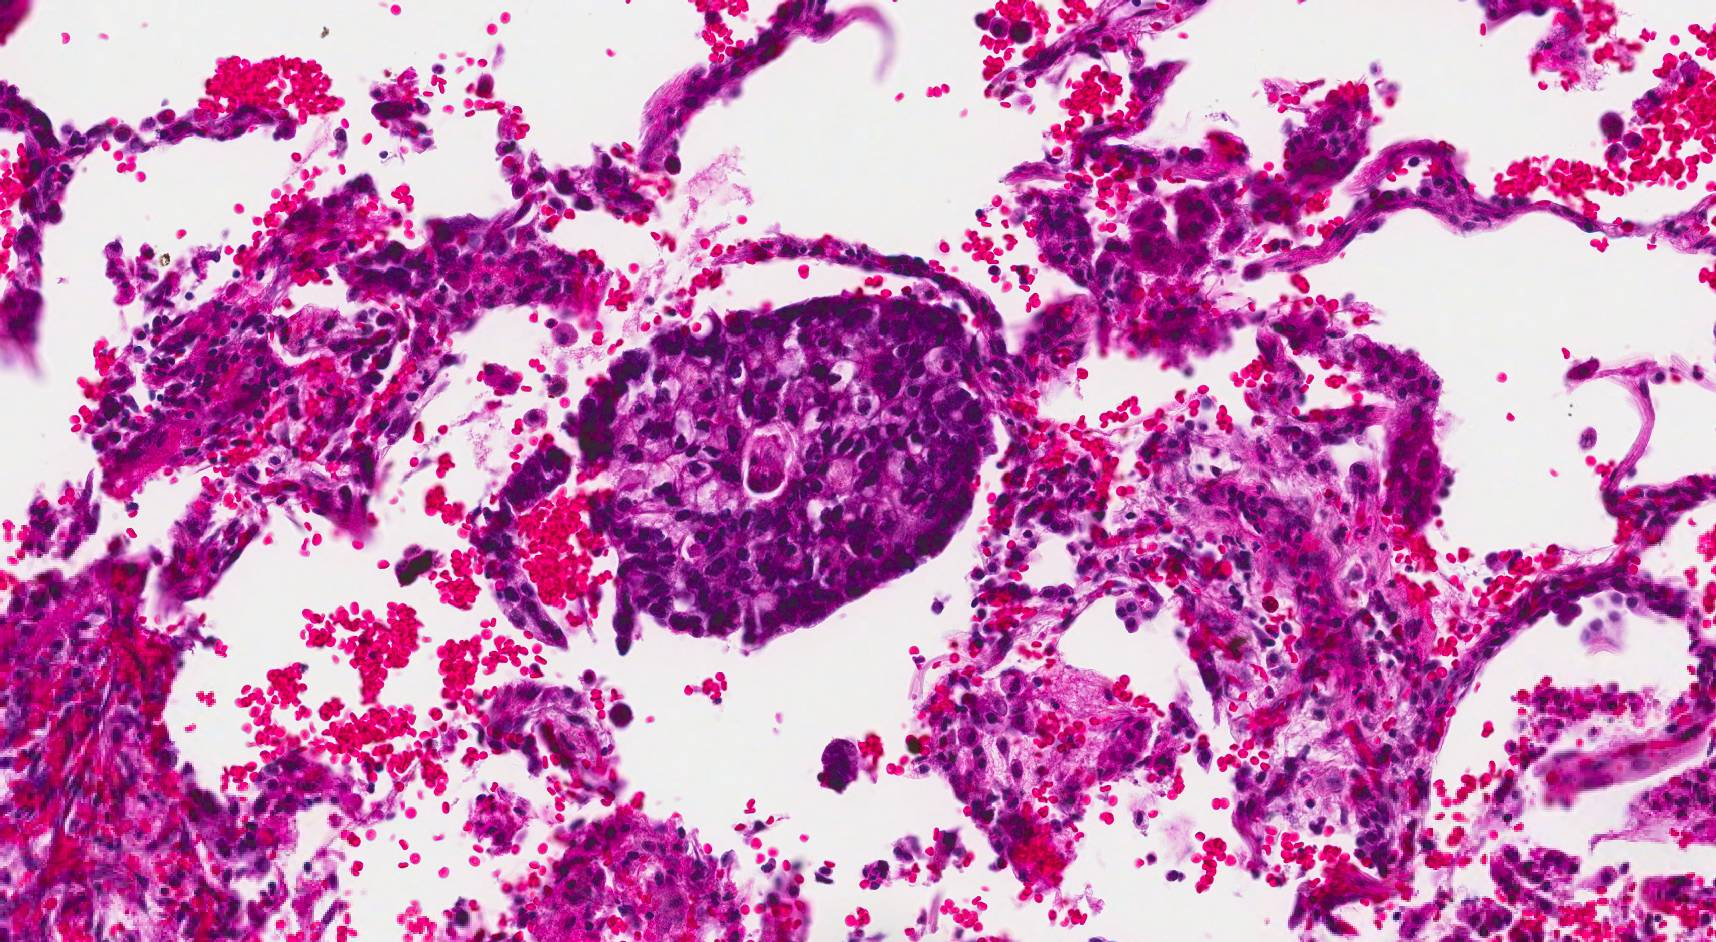stas: (475, 293, 999, 654)
